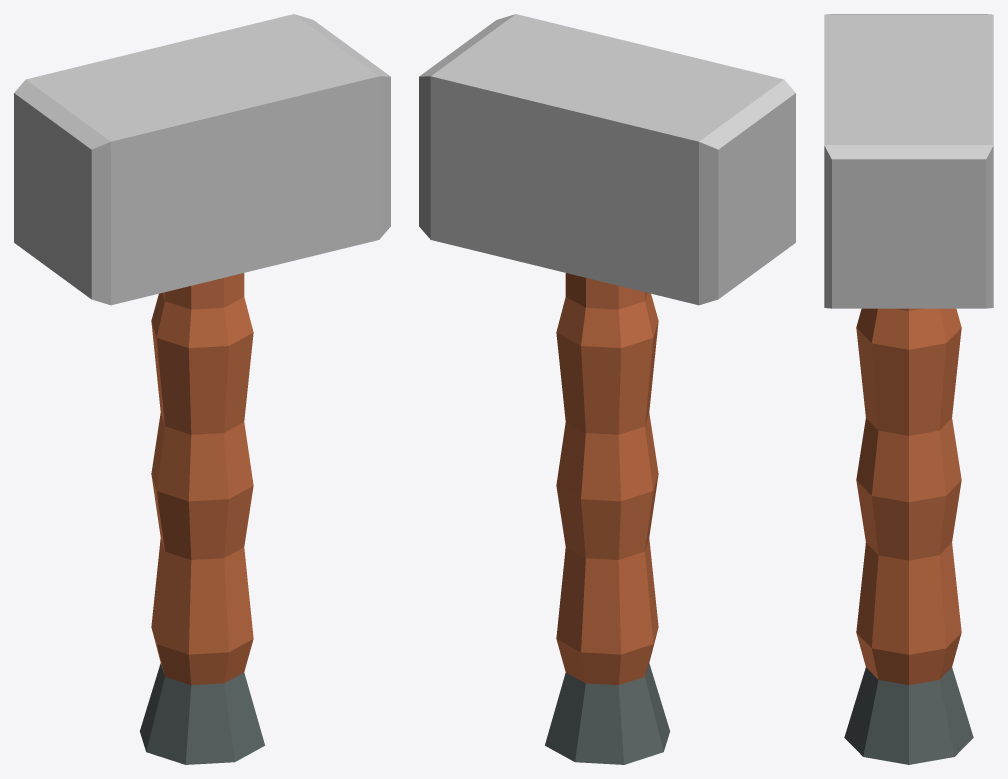
The model's file is hammer.fbx.
3 views of the same model, side by side, from view 1: azimuth 30°, elevation 25°; view 2: azimuth 150°, elevation 25°; view 3: azimuth 270°, elevation 25° (orthographic).
Visible parts, largest first — view 1: Cylinder; view 2: Cylinder; view 3: Cylinder.
Boxes of the visible parts, bbox=[...] form: Cylinder: bbox=[14, 14, 390, 764]; Cylinder: bbox=[419, 14, 795, 764]; Cylinder: bbox=[824, 14, 993, 764].
Bounding box in the file's own units: 62.78 × 132 × 30.92.
